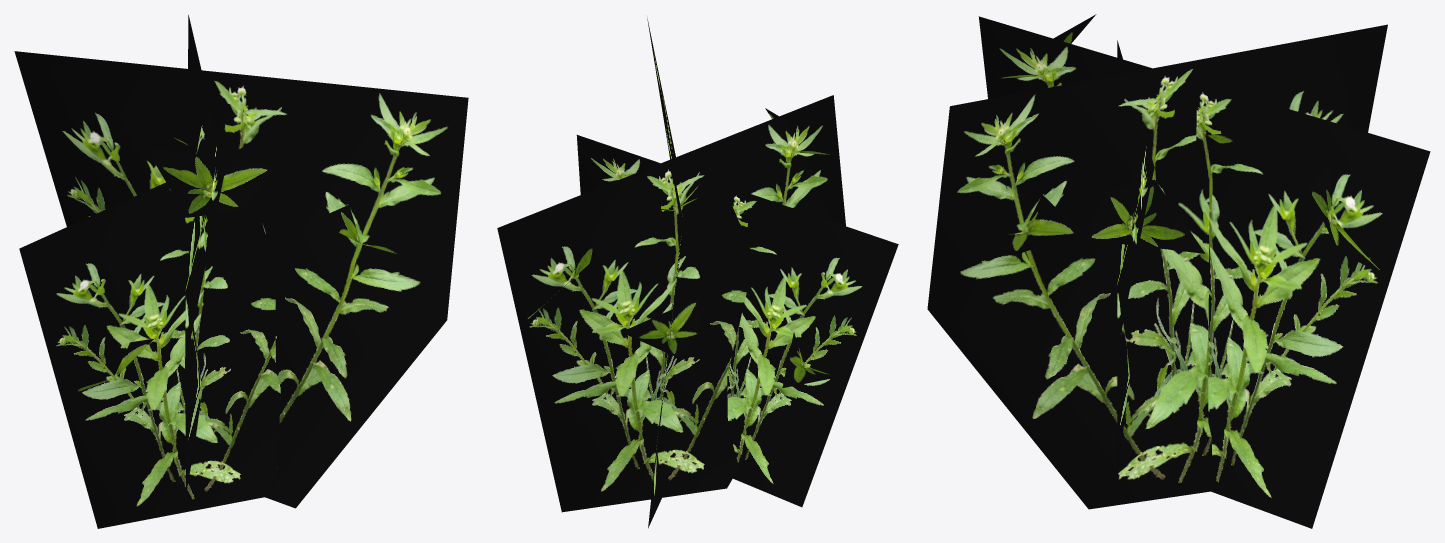
Rendered from m_grass_25_2.fbx.
3 views of the same model, side by side, from view 1: azimuth 30°, elevation 25°; view 2: azimuth 150°, elevation 25°; view 3: azimuth 270°, elevation 25° (orthographic). The views are drawn at different scales.
Visible parts, largest first — view 1: mesh_grass_25_2_LOD0; view 2: mesh_grass_25_2_LOD0; view 3: mesh_grass_25_2_LOD0.
Part boxes in pixels (x1,y1,x2,y2): mesh_grass_25_2_LOD0: (14, 15, 468, 528); mesh_grass_25_2_LOD0: (497, 18, 898, 528); mesh_grass_25_2_LOD0: (927, 14, 1430, 528).
Size of the model in its own units: 0.5526 by 0.6183 by 0.6123.
